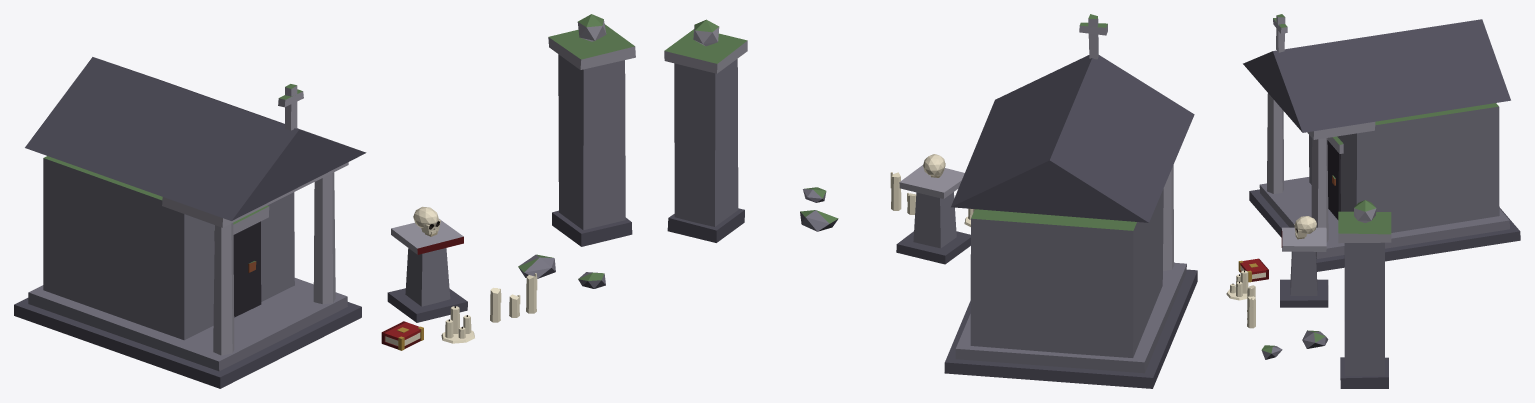
File: sample_kit_small.fbx
The picture shows the model from 3 angles, left to right: view 1: azimuth 30°, elevation 25°; view 2: azimuth 150°, elevation 25°; view 3: azimuth 270°, elevation 25°; orthographic projection. The views are drawn at different scales.
Visible parts, largest first — view 1: Crypt, GatePillar, Pedestal, Book, Candles, Rock_A, Skull; view 2: Crypt, GatePillar, Pedestal, Rock_A; view 3: Crypt, GatePillar, Pedestal, Book, Candles, Skull, Rock_A, Candle2.
Boxes of the visible parts, x1,y1,x2,y2 form: Crypt: (14,57,366,388); GatePillar: (548,14,635,246); Pedestal: (387,219,467,322); Book: (381,321,423,350); Candles: (441,306,474,343); Rock_A: (518,254,555,278); Skull: (413,206,440,236); Crypt: (944,14,1197,388); GatePillar: (664,19,747,242); Pedestal: (896,165,970,264); Rock_A: (800,210,838,231); Crypt: (1243,14,1520,271); GatePillar: (1338,200,1391,388); Pedestal: (1280,227,1328,307); Book: (1238,258,1268,282); Candles: (1226,270,1248,300); Skull: (1294,216,1316,239); Rock_A: (1302,330,1328,348); Candle2: (1247,296,1255,328).
Size of the model in its own units: 25.92 by 12.08 by 14.56.
